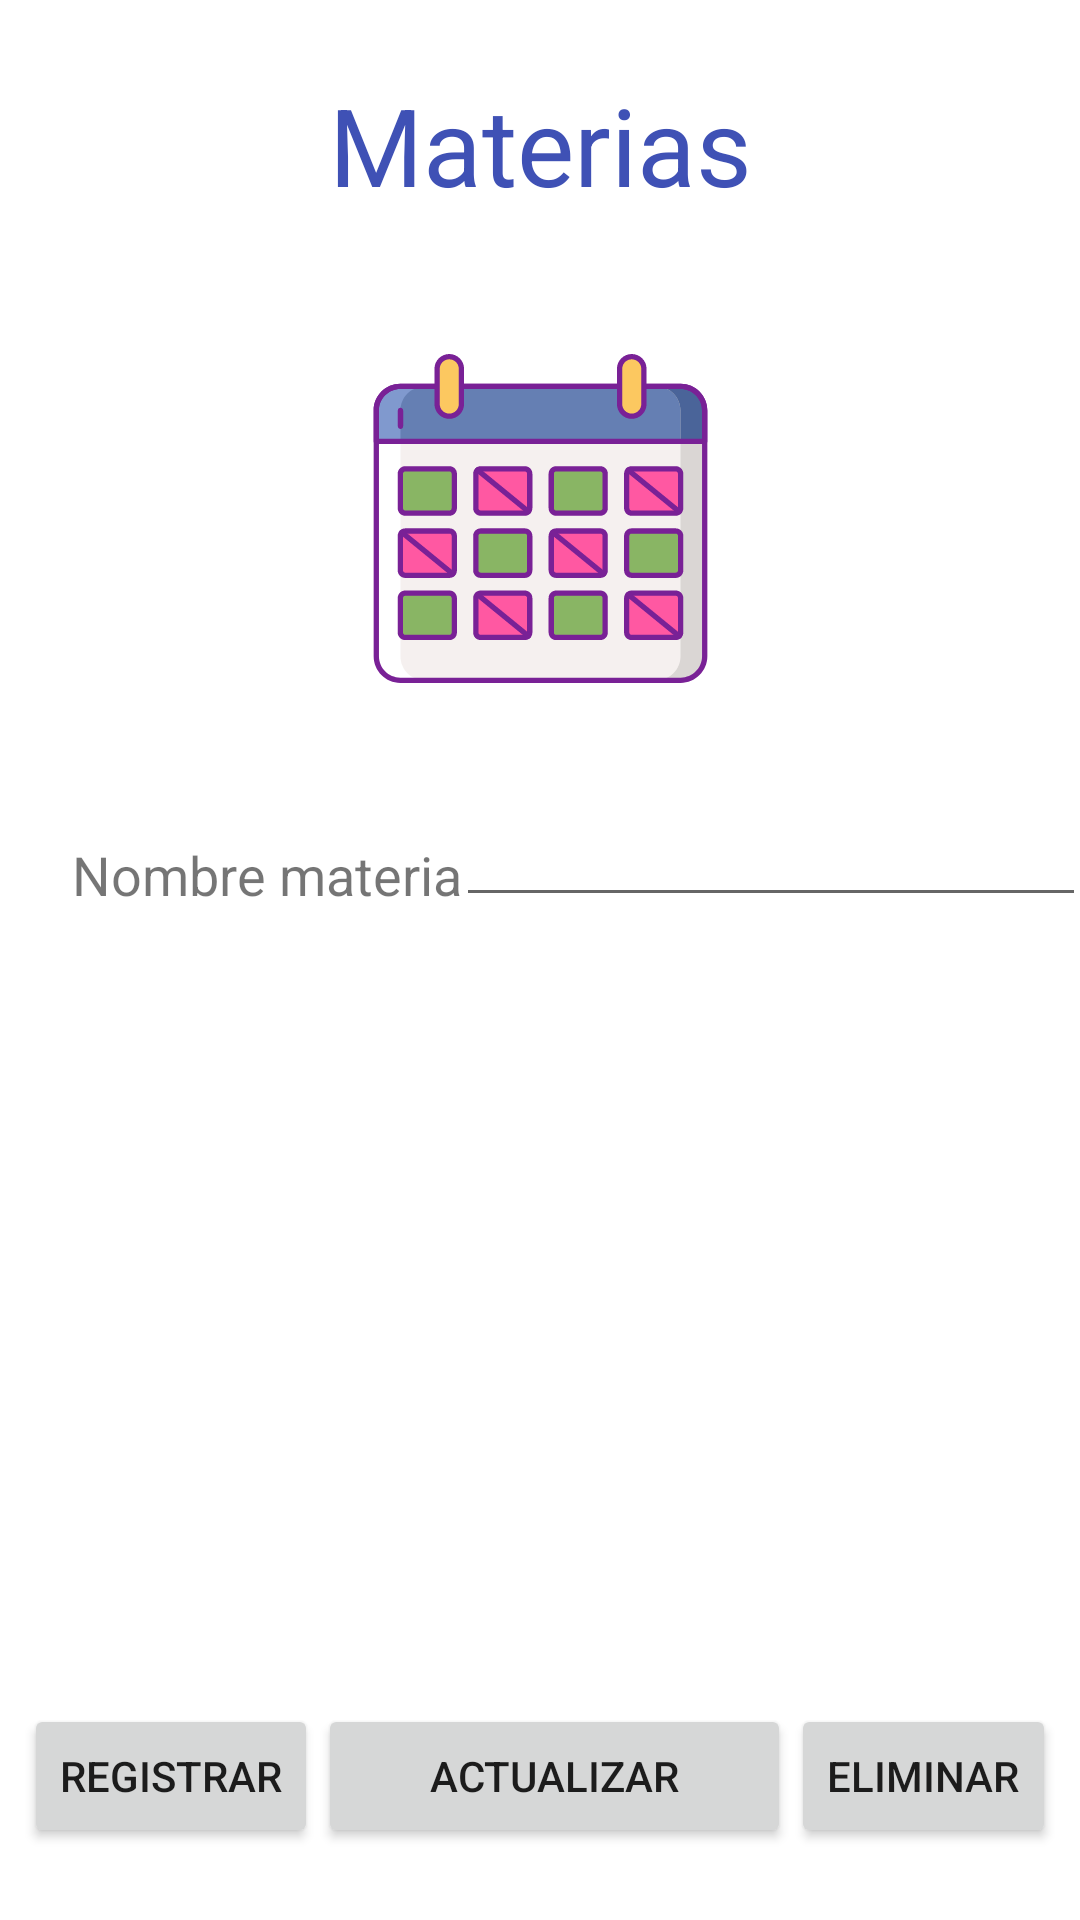

Where to tap for icons on this 1080x1920 app screen, as (x=x, y=y):
horario: (x=540, y=518)
